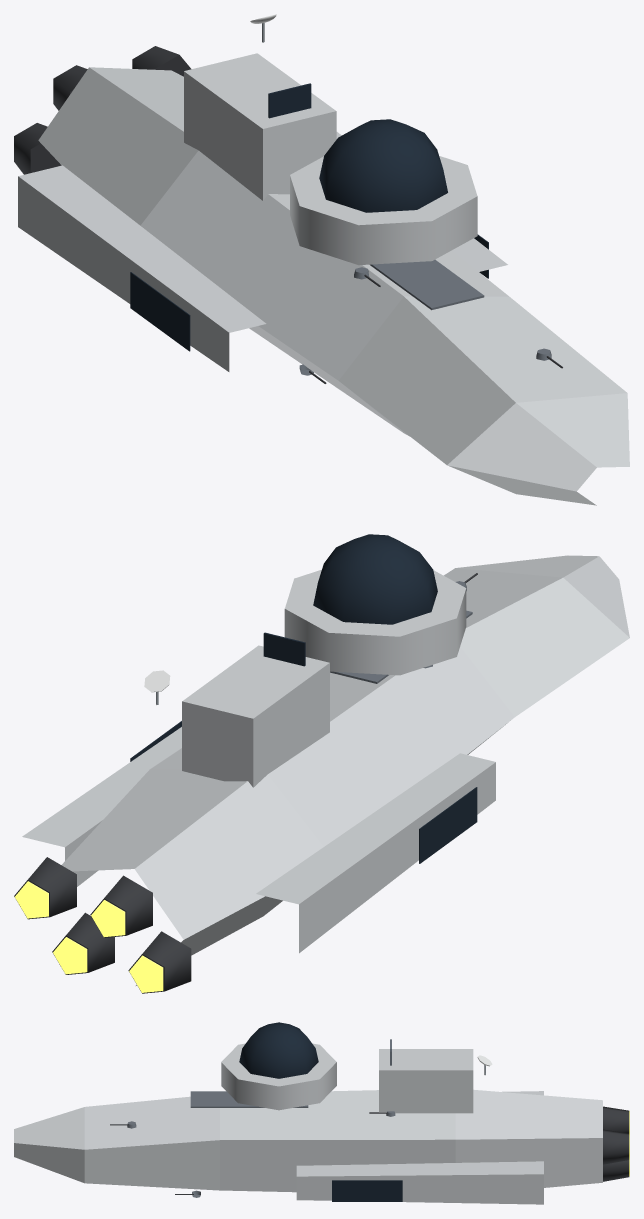
File: space_ship_command_ship_mk2_lod1.glb
The picture shows the model from 3 angles, top to bottom: view 1: azimuth 30°, elevation 25°; view 2: azimuth 150°, elevation 25°; view 3: azimuth 270°, elevation 25°; orthographic projection. The views are drawn at different scales.
Parts seen in each view (by area): view 1: body, hangar_r, engine_0, engine_3, engine_1; view 2: body, engine_0, engine_3, engine_1, engine_2, hangar_r; view 3: body, hangar_l, engine_3, engine_1, engine_2.
Part boxes in pixels (box(x1,y1,x2,y2)): body: box(18, 53, 629, 505); hangar_r: box(130, 272, 190, 351); engine_0: box(14, 123, 61, 174); engine_3: box(132, 46, 191, 76); engine_1: box(53, 65, 87, 110); body: box(22, 534, 629, 985); engine_0: box(128, 931, 191, 993); engine_3: box(14, 857, 76, 919); engine_1: box(90, 875, 152, 937); engine_2: box(52, 912, 114, 974); hangar_r: box(419, 787, 477, 863); body: box(14, 1022, 602, 1204); hangar_l: box(332, 1180, 402, 1201); engine_3: box(603, 1129, 629, 1164); engine_1: box(603, 1106, 629, 1134); engine_2: box(603, 1159, 629, 1181).
Size of the model in its own units: 31.34 by 27.26 by 93.72.
